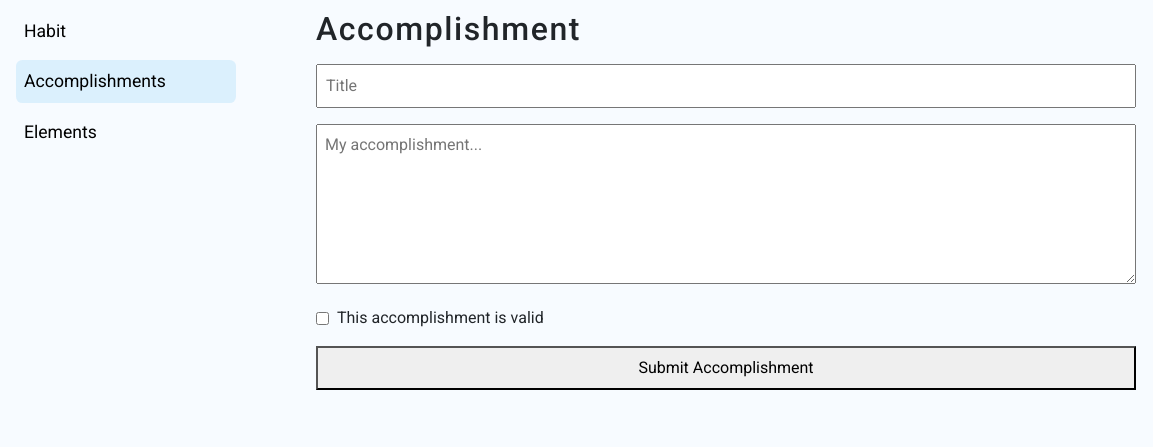
Test: accomplishments › Click the button that says 'Submit Accomplishment', 'Complete the items above to continue' should be visible
Click the button "Submit Accomplishment": (726, 368) [316,346,1136,390]
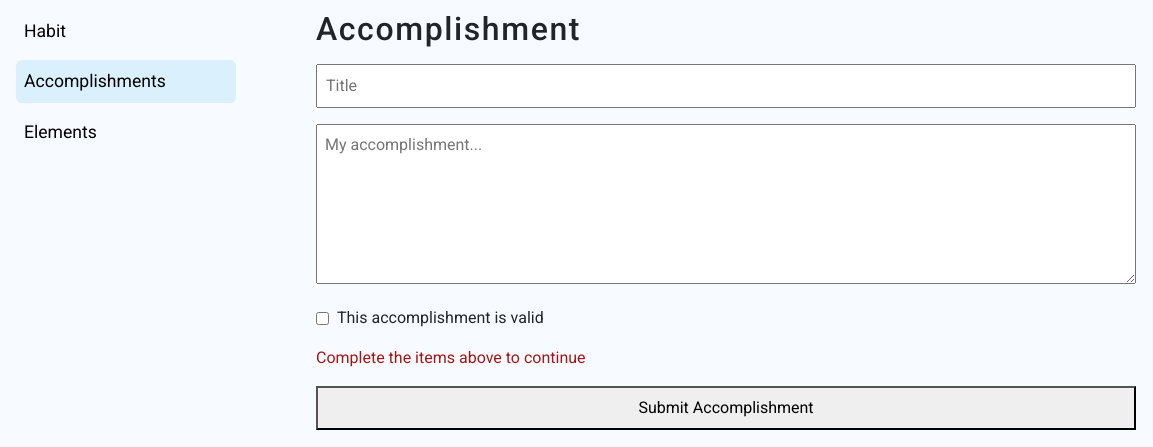
Now the text "Complete the items above to continue" is shown, box [316,348,586,367]
